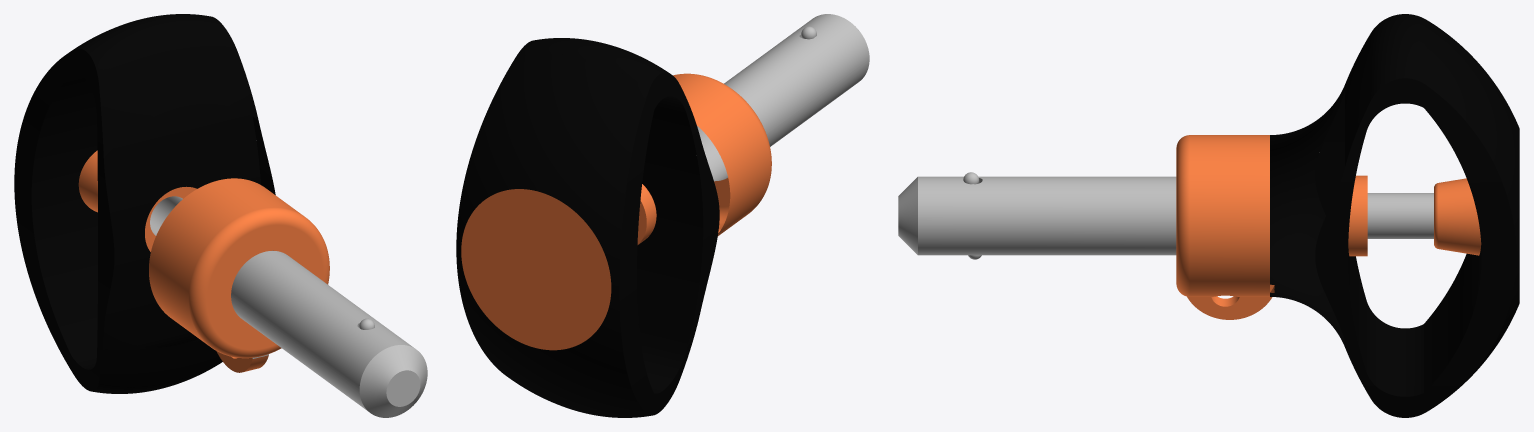
File: IPTH8-20.glb
3 renders of one model, left to right at view 1: azimuth 30°, elevation 25°; view 2: azimuth 150°, elevation 25°; view 3: azimuth 270°, elevation 25°, orthographic.
Parts seen in each view (by area): view 1: _IPTH8-20; view 2: _IPTH8-20; view 3: _IPTH8-20.
Boxes of the visible parts, x1,y1,x2,y2 form: _IPTH8-20: [14, 14, 427, 417]; _IPTH8-20: [456, 14, 869, 417]; _IPTH8-20: [898, 14, 1519, 417].
Size of the model in its own units: 19.2 by 41 by 63.
